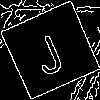J: (26, 25, 68, 78)
